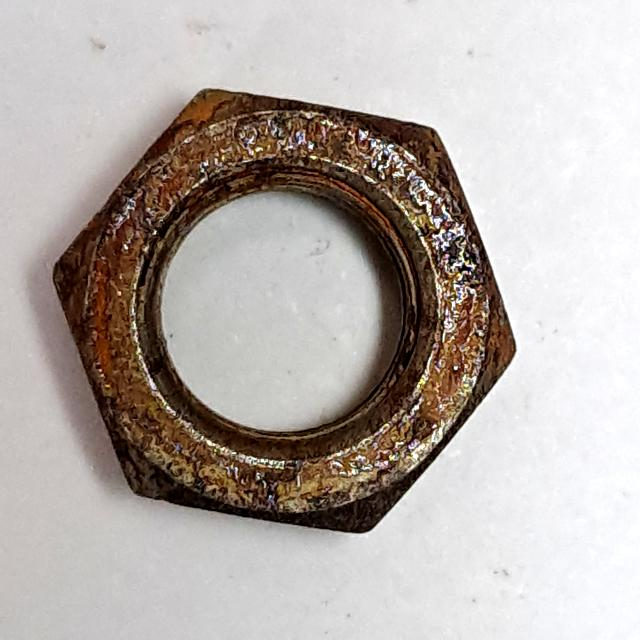Rust: (38, 72, 530, 553)
